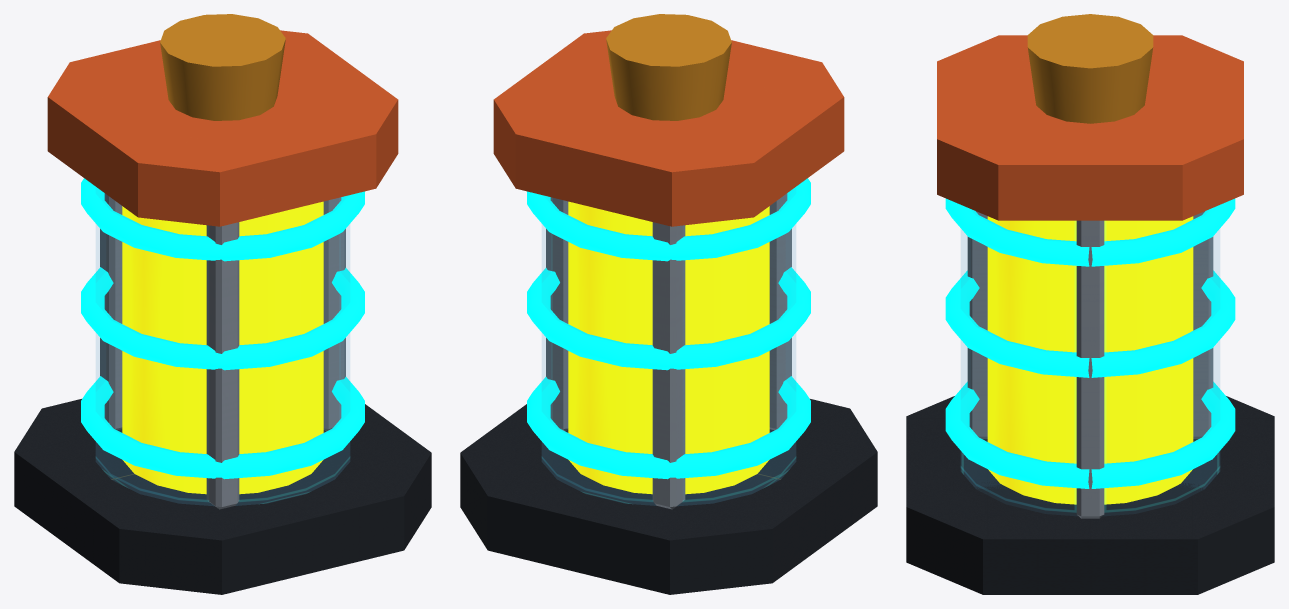
The model's file is prop_thermal_jelly_canister.glb.
3 views of the same model, side by side, from view 1: azimuth 30°, elevation 25°; view 2: azimuth 150°, elevation 25°; view 3: azimuth 270°, elevation 25° (orthographic). The views are drawn at different scales.
Parts seen in each view (by area): view 1: ThermalJelly_Root; view 2: ThermalJelly_Root; view 3: ThermalJelly_Root.
Boxes of the visible parts, x1,y1,x2,y2 form: ThermalJelly_Root: [14, 14, 431, 594]; ThermalJelly_Root: [460, 14, 877, 594]; ThermalJelly_Root: [906, 14, 1274, 594].
Size of the model in its own units: 0.24 by 0.3425 by 0.24.
7 materials, 7 textured.
